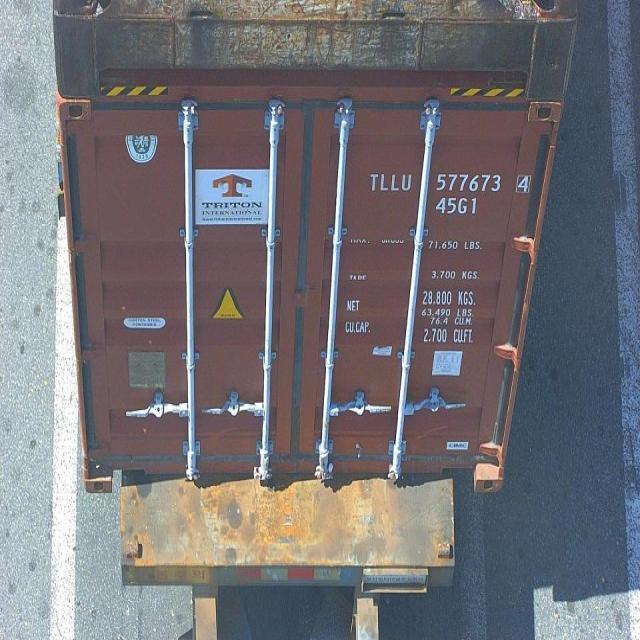ISO: (436, 195, 478, 215)
container_number: (373, 168, 532, 194)
